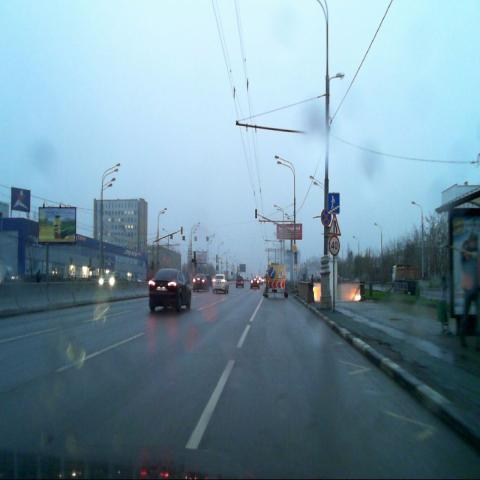6_6: (328, 193, 340, 214)
